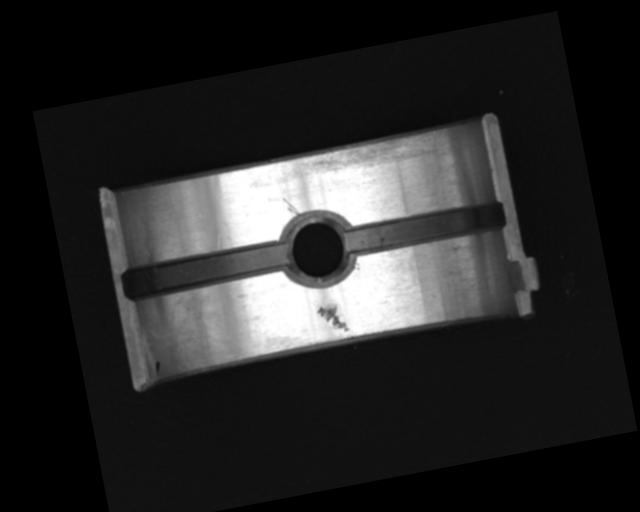blot: (151, 358, 163, 376)
bruise: (314, 297, 351, 337)
gap: (120, 237, 293, 301), (342, 197, 508, 258)
hole: (276, 206, 360, 289)
nick: (282, 195, 300, 219)
scratch: (297, 124, 448, 183)
